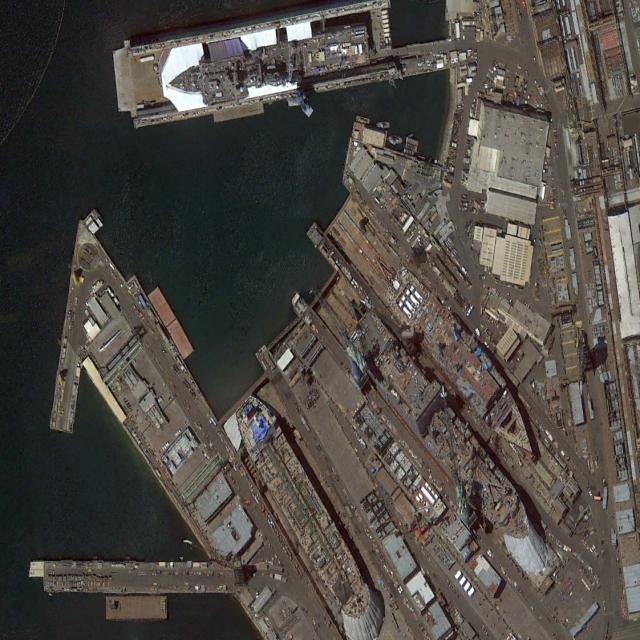Cargo: (226, 386, 380, 631)
Landing: (164, 25, 371, 103)
Other Ship: (341, 302, 545, 554), (376, 260, 552, 466)
